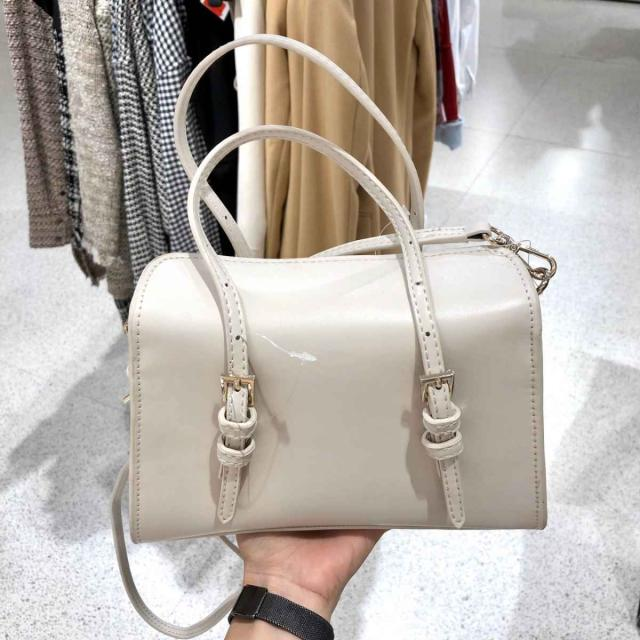handbag: (123, 220, 566, 543)
